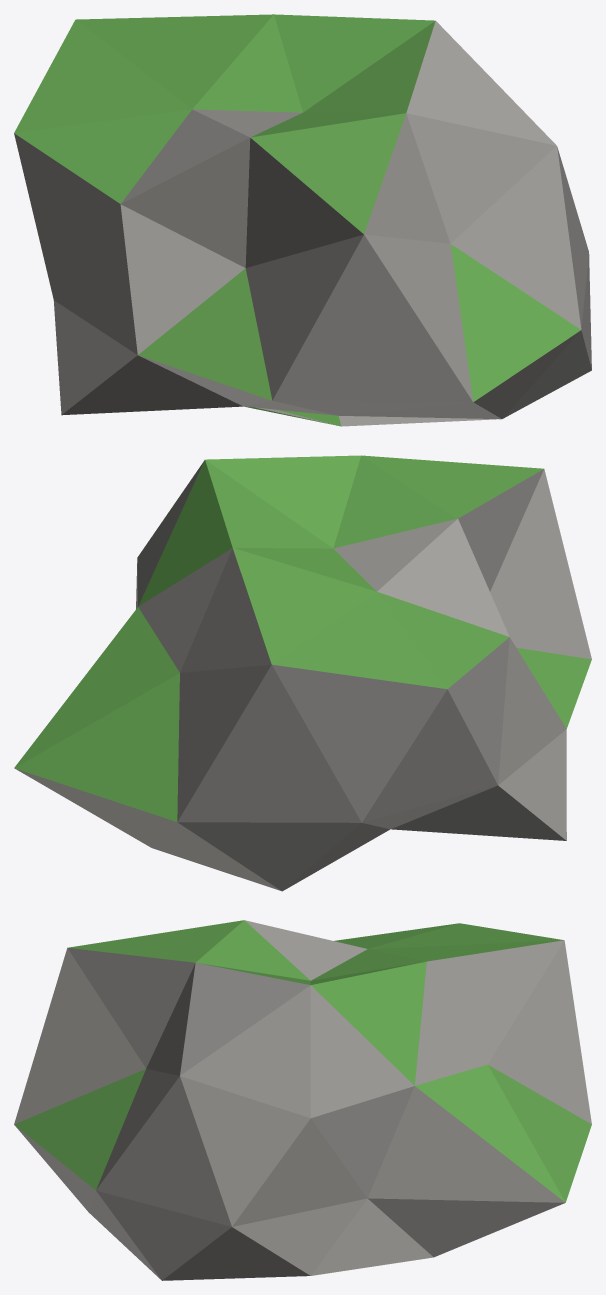
Rendered from rock_4.glb.
3 renders of one model, top to bottom at view 1: azimuth 30°, elevation 25°; view 2: azimuth 150°, elevation 25°; view 3: azimuth 270°, elevation 25°, orthographic. The views are drawn at different scales.
Visible parts, largest first — view 1: Rock_4; view 2: Rock_4; view 3: Rock_4.
Part boxes in pixels (x1,y1,x2,y2): Rock_4: (14,14,591,426); Rock_4: (14,455,591,891); Rock_4: (14,920,591,1280).
Size of the model in its own units: 1.78 by 1.09 by 2.12.
